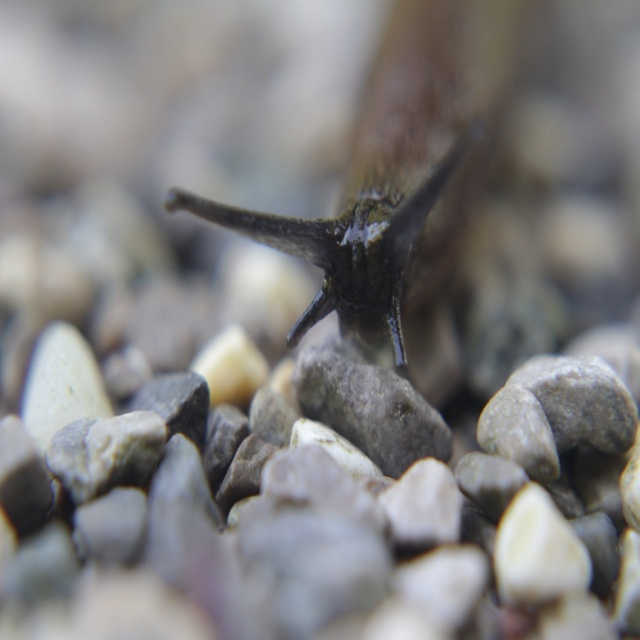Snail: (165, 0, 544, 379)
